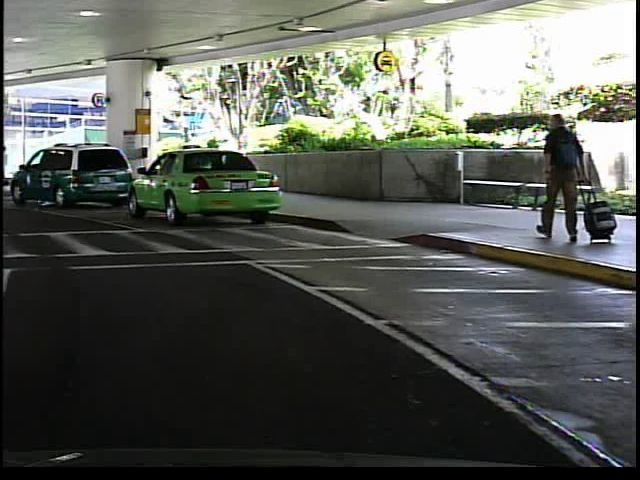person: (527, 105, 590, 250)
